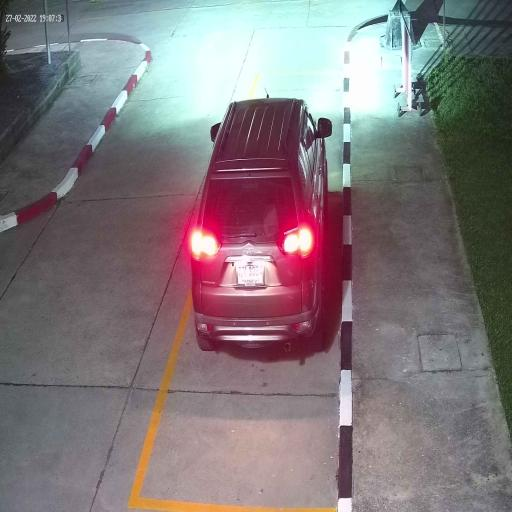car: (190, 98, 328, 354)
